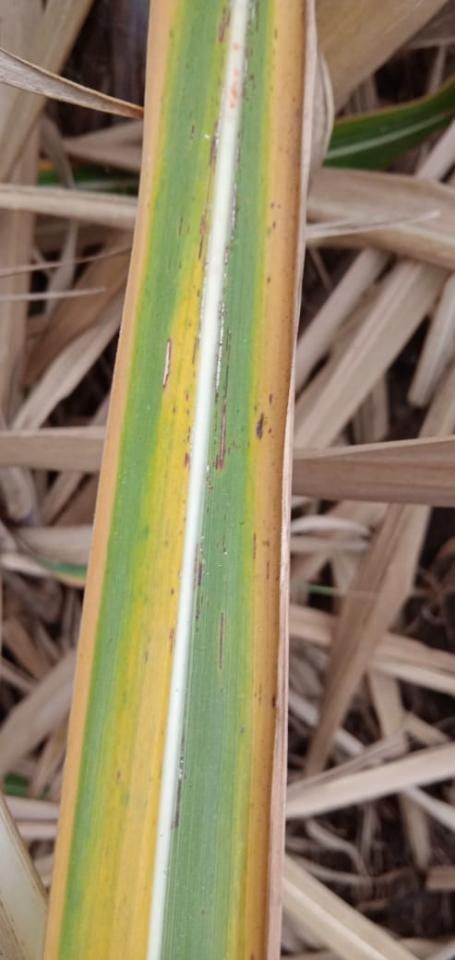RedRot: (230, 81, 237, 101), (234, 68, 240, 77), (234, 45, 240, 52), (230, 103, 236, 109)
Rust: (213, 300, 227, 405), (173, 735, 186, 829), (207, 120, 222, 167), (229, 180, 239, 242), (239, 43, 250, 99), (220, 398, 227, 471), (162, 338, 172, 388), (217, 610, 225, 671), (191, 542, 199, 590), (218, 7, 227, 45), (222, 364, 230, 398), (256, 412, 265, 442), (225, 327, 232, 362), (197, 234, 206, 260), (190, 335, 198, 364), (254, 0, 261, 33), (176, 213, 185, 237), (246, 0, 254, 27), (197, 318, 203, 353), (233, 144, 243, 164), (197, 559, 204, 587), (169, 626, 175, 654), (257, 682, 264, 705), (222, 244, 229, 266), (188, 123, 197, 140), (143, 650, 151, 666), (253, 531, 257, 561), (183, 451, 190, 468), (194, 604, 201, 621), (226, 11, 232, 28), (248, 73, 257, 83), (211, 422, 219, 433), (266, 560, 270, 581), (271, 693, 276, 709), (268, 392, 274, 405), (176, 259, 183, 270), (199, 908, 207, 917), (199, 541, 205, 553), (273, 28, 279, 40), (213, 409, 220, 419), (221, 546, 228, 556), (185, 434, 191, 445), (186, 223, 191, 236), (269, 200, 275, 210), (239, 725, 245, 735), (213, 435, 219, 445), (184, 391, 189, 402), (266, 539, 271, 549), (116, 769, 121, 779), (226, 447, 231, 457), (192, 369, 197, 379), (215, 454, 218, 470), (185, 408, 191, 416), (266, 275, 272, 283), (172, 405, 177, 414), (205, 597, 210, 606), (188, 319, 193, 328), (250, 47, 254, 58), (170, 587, 175, 595), (196, 287, 200, 297), (240, 425, 245, 433), (206, 506, 210, 516), (201, 595, 205, 604), (183, 515, 187, 524), (268, 427, 273, 434), (272, 221, 276, 229), (247, 442, 251, 449), (254, 406, 258, 413), (276, 204, 281, 209), (187, 427, 191, 433), (236, 408, 240, 414), (205, 476, 209, 482), (179, 531, 183, 536), (208, 480, 212, 485), (212, 461, 215, 467), (211, 486, 214, 491)
Yellow: (40, 0, 178, 959), (78, 251, 202, 958), (239, 0, 317, 959)
